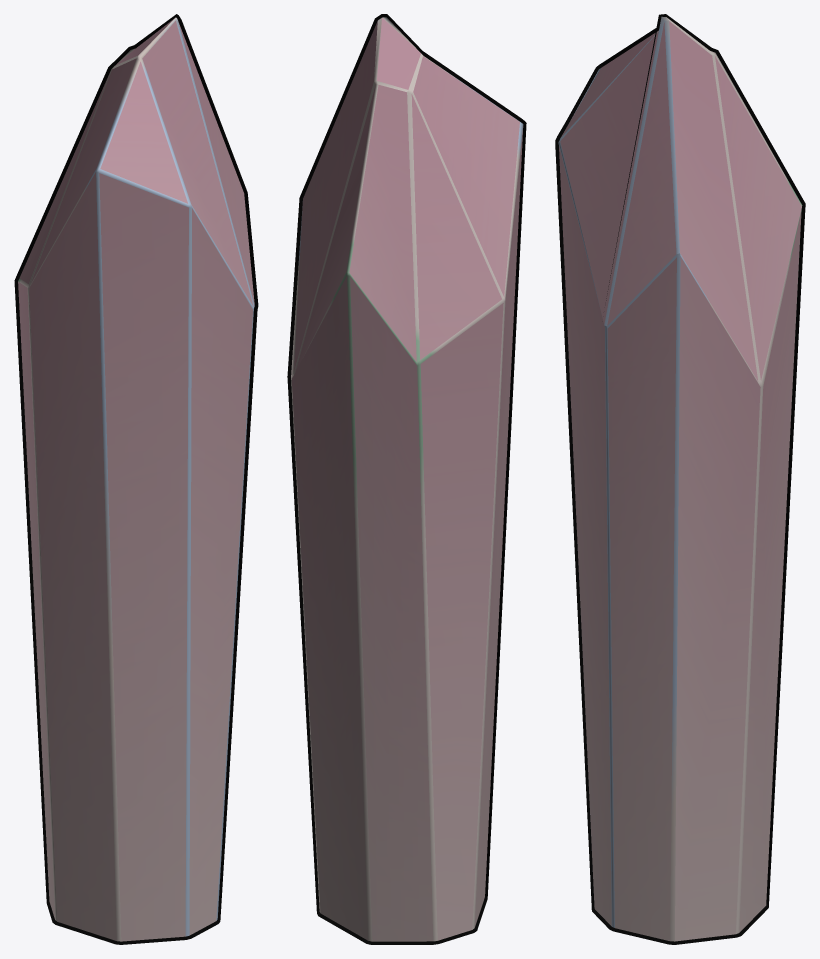
The model's file is crystal-crossroads__Crystal_Small_04.glb.
The picture shows the model from 3 angles, left to right: view 1: azimuth 30°, elevation 25°; view 2: azimuth 150°, elevation 25°; view 3: azimuth 270°, elevation 25°; orthographic projection. The views are drawn at different scales.
Visible parts, largest first — view 1: Crystal_Small_04; view 2: Crystal_Small_04; view 3: Crystal_Small_04.
Part boxes in pixels (bbox=[...]): Crystal_Small_04: bbox=[14, 14, 258, 944]; Crystal_Small_04: bbox=[287, 14, 526, 944]; Crystal_Small_04: bbox=[555, 14, 805, 944].
Size of the model in its own units: 0.687 by 2.73 by 0.6807.
Materials: 2 (1 with a texture image).
